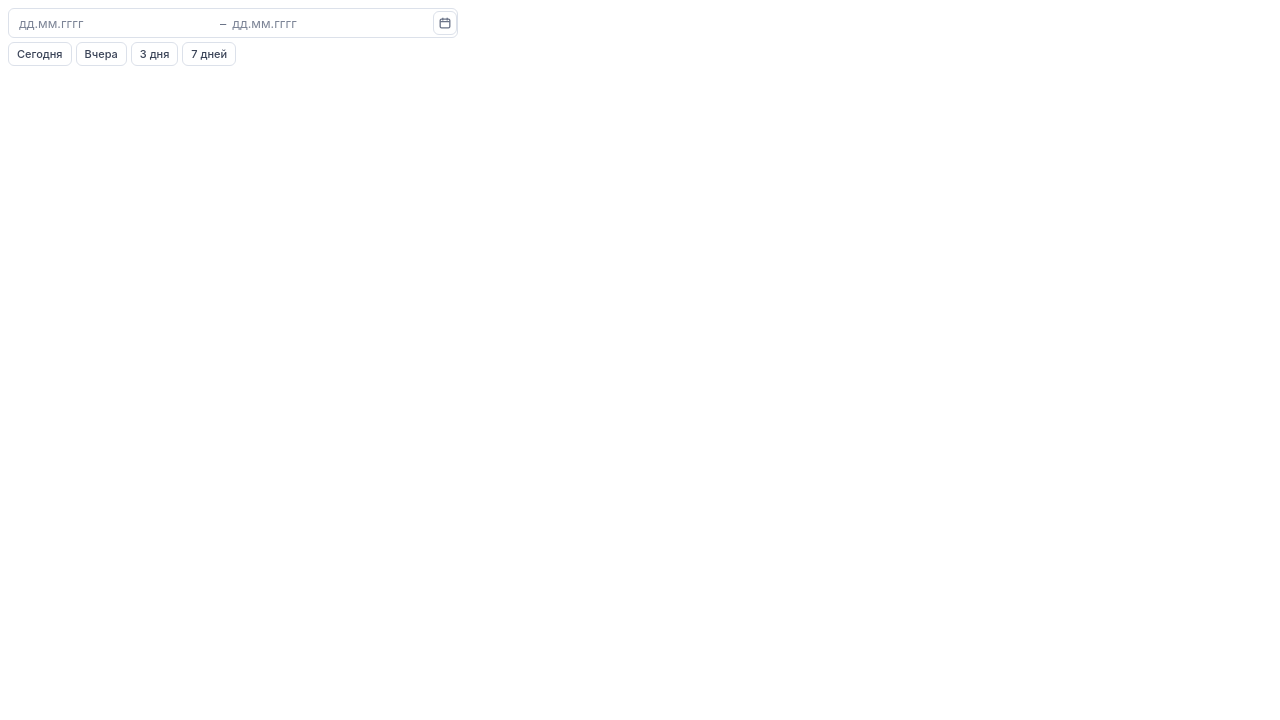
Scenario: DateRange › календарь: два клика в обратном порядке меняют границы местами и закрывают поповер
Click the button named "Выбрать период" at point(445, 23), box 433,11 -> 457,35
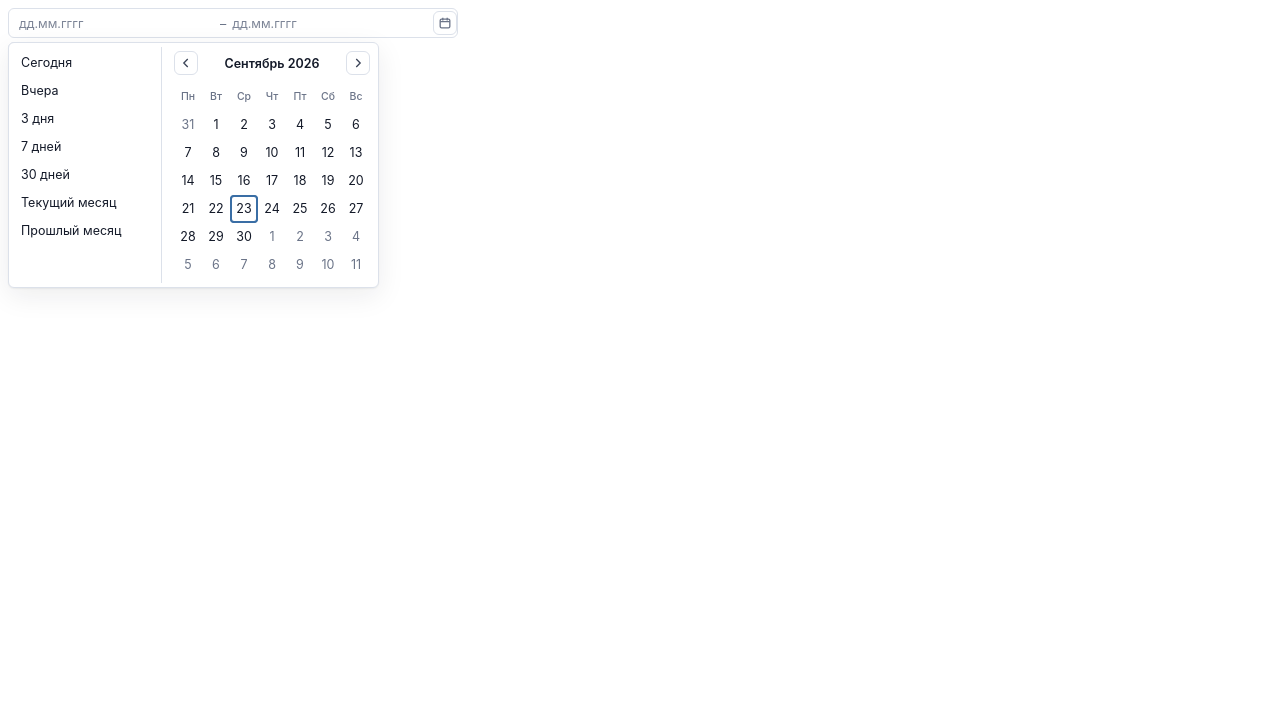
Click the button named "10 сентября" at point(272, 153), box 258,139 -> 286,167
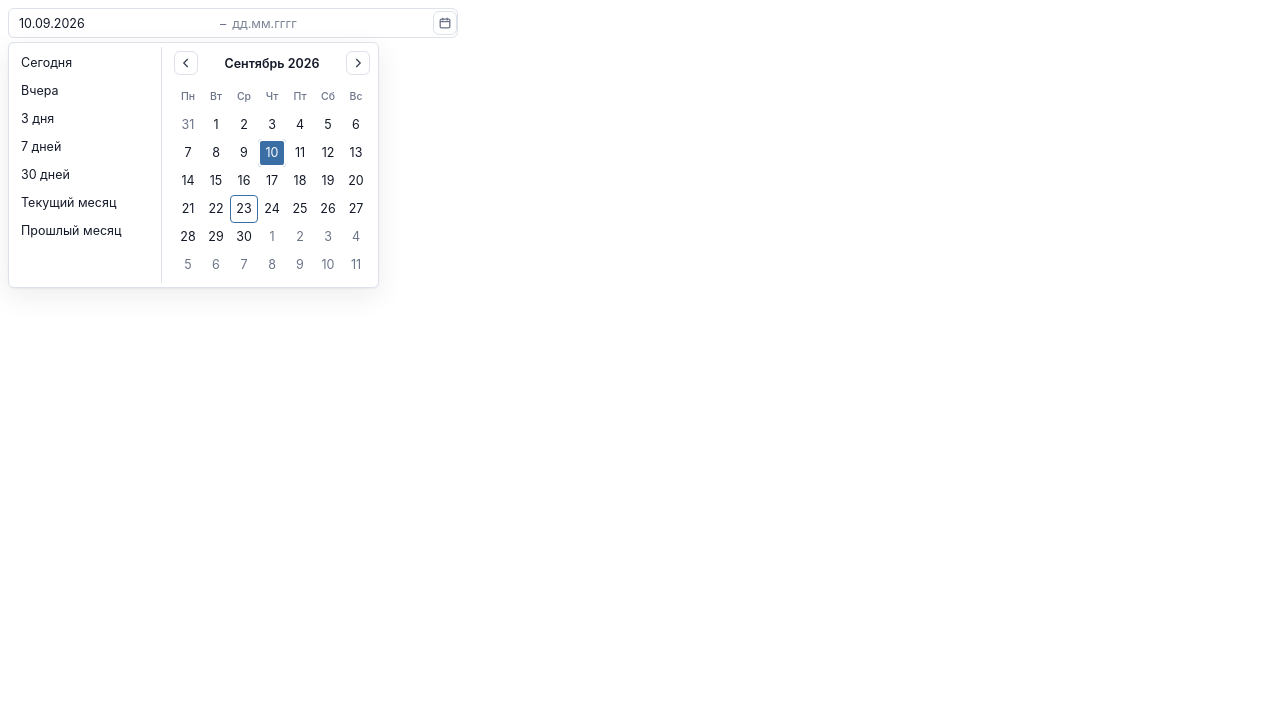
Hover over the button named "7 сентября" at point(188, 153), box 174,139 -> 202,167
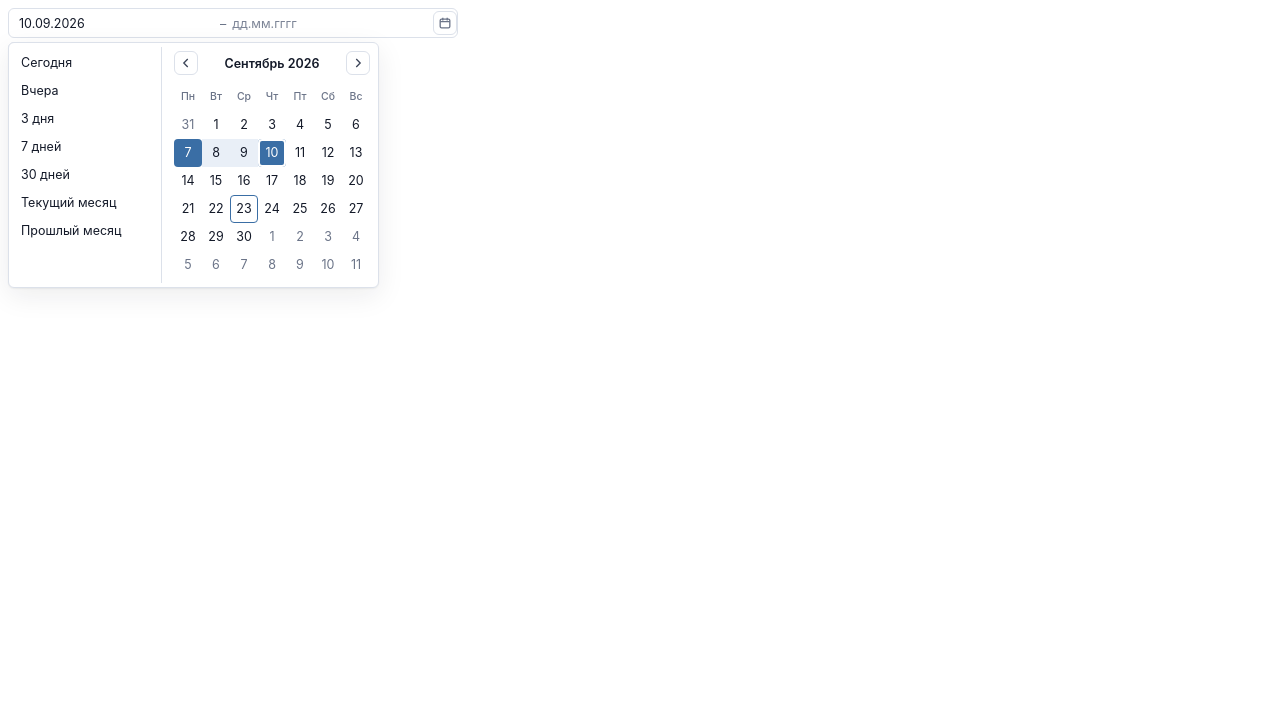
Click the button named "7 сентября" at point(188, 153), box 174,139 -> 202,167
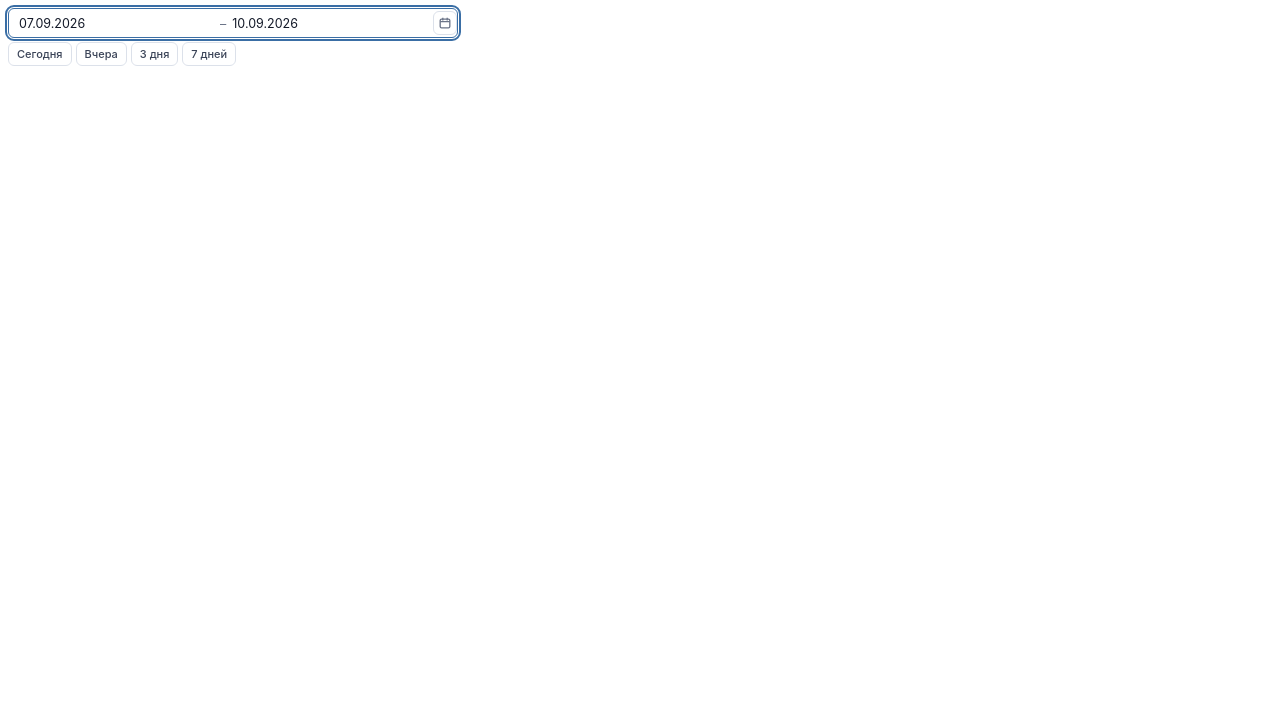
Result: the dialog is gone
